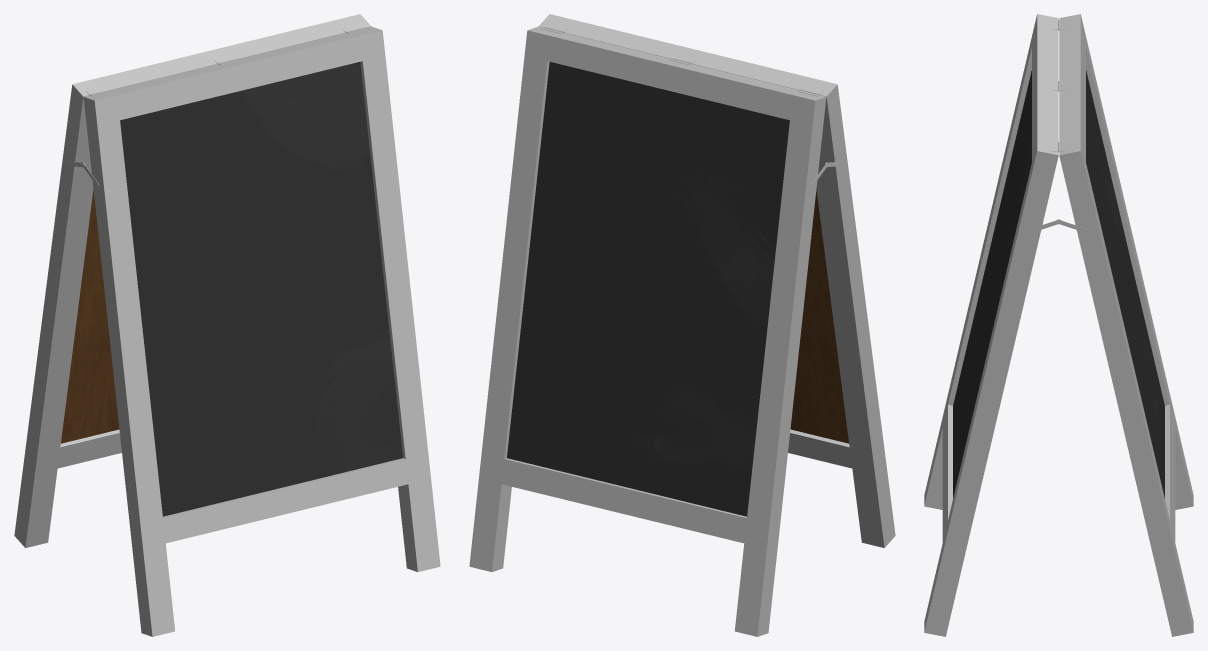
File: standing_chalkboard_01_4k.gltf
3 renders of one model, left to right at view 1: azimuth 30°, elevation 25°; view 2: azimuth 150°, elevation 25°; view 3: azimuth 270°, elevation 25°, orthographic. The views are drawn at different scales.
Parts seen in each view (by area): view 1: standing_chalkboard_01; view 2: standing_chalkboard_01; view 3: standing_chalkboard_01.
Part boxes in pixels (x1,y1,x2,y2): standing_chalkboard_01: [14, 14, 440, 636]; standing_chalkboard_01: [469, 14, 895, 636]; standing_chalkboard_01: [924, 14, 1193, 636].
Bounding box in the file's own units: 0.9195 × 1.51 × 0.7587.
